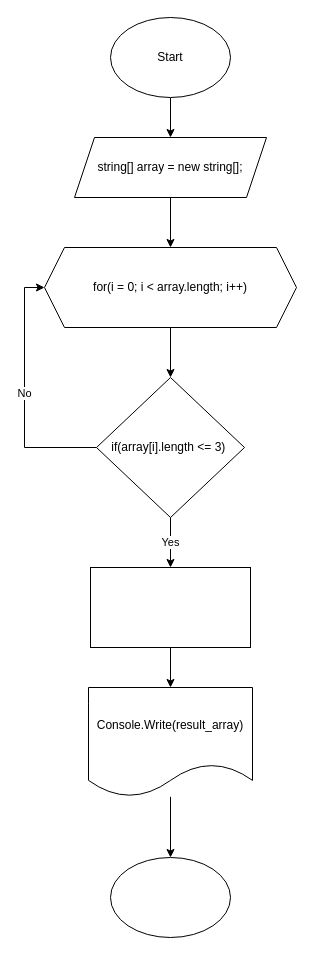
Some shapes in this 314 by 955 pixel diagram are drawn without their labels. The shapes that lost their labels are listed below. From the top down, each one's centre as x and y in pixels, then its label:
At point (170, 607): "string[] result_array = new string[] result_array[i] = array[i]".
At point (170, 897): "End".
